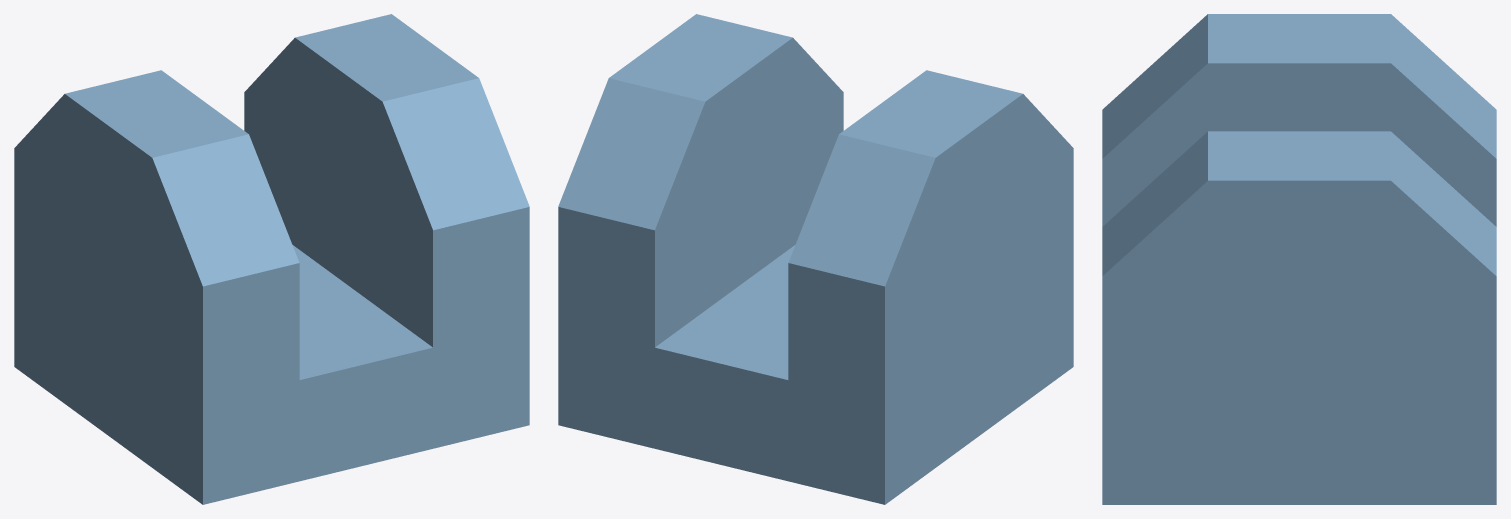
3 renders of one model, left to right at view 1: azimuth 30°, elevation 25°; view 2: azimuth 150°, elevation 25°; view 3: azimuth 270°, elevation 25°, orthographic. The views are drawn at different scales.
Visible parts, largest first — view 1: Base_Joint; view 2: Base_Joint; view 3: Base_Joint.
Part boxes in pixels (box(x1,y1,x2,y2)): Base_Joint: box(14, 14, 529, 504); Base_Joint: box(558, 14, 1073, 504); Base_Joint: box(1102, 14, 1496, 504).
Size of the model in its own units: 2 by 2 by 1.81.
